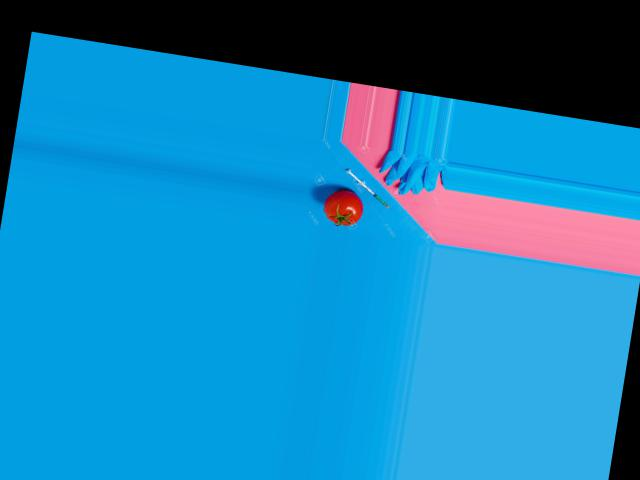tomato: (322, 186, 366, 227)
